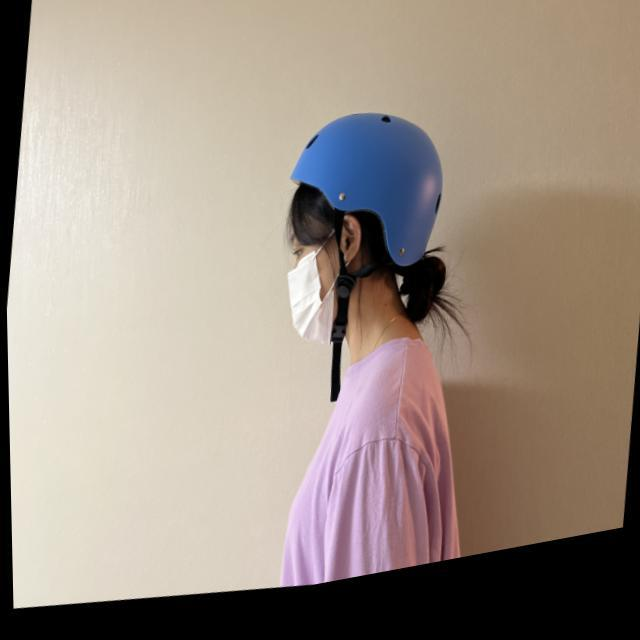Helmet: (284, 101, 471, 358)
